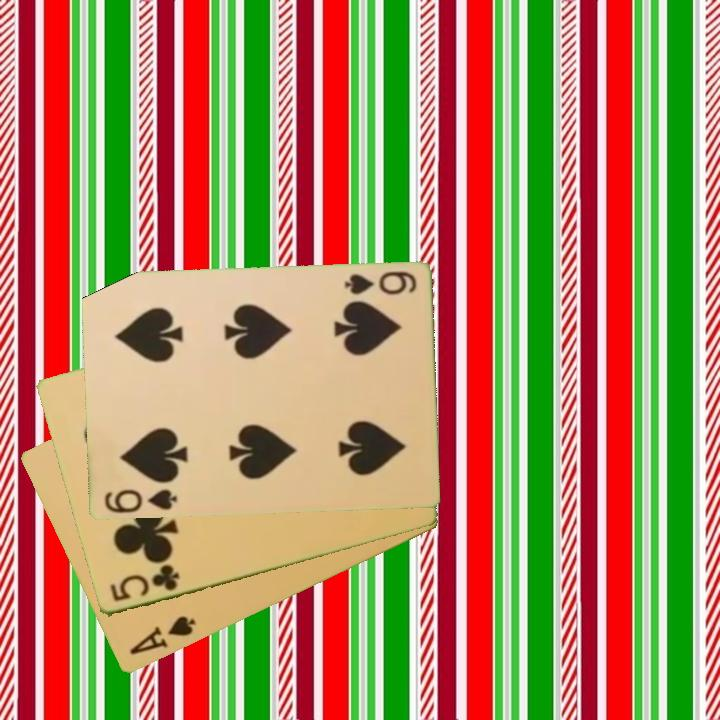5c: (106, 561, 183, 605)
6s: (340, 268, 419, 298), (101, 486, 179, 516)
As: (125, 612, 199, 659)
